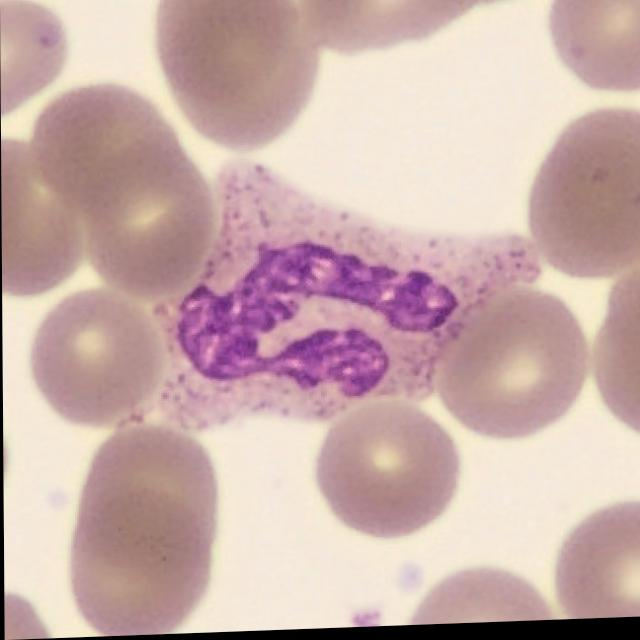Neutrofilo segmentado: (152, 161, 539, 431)
